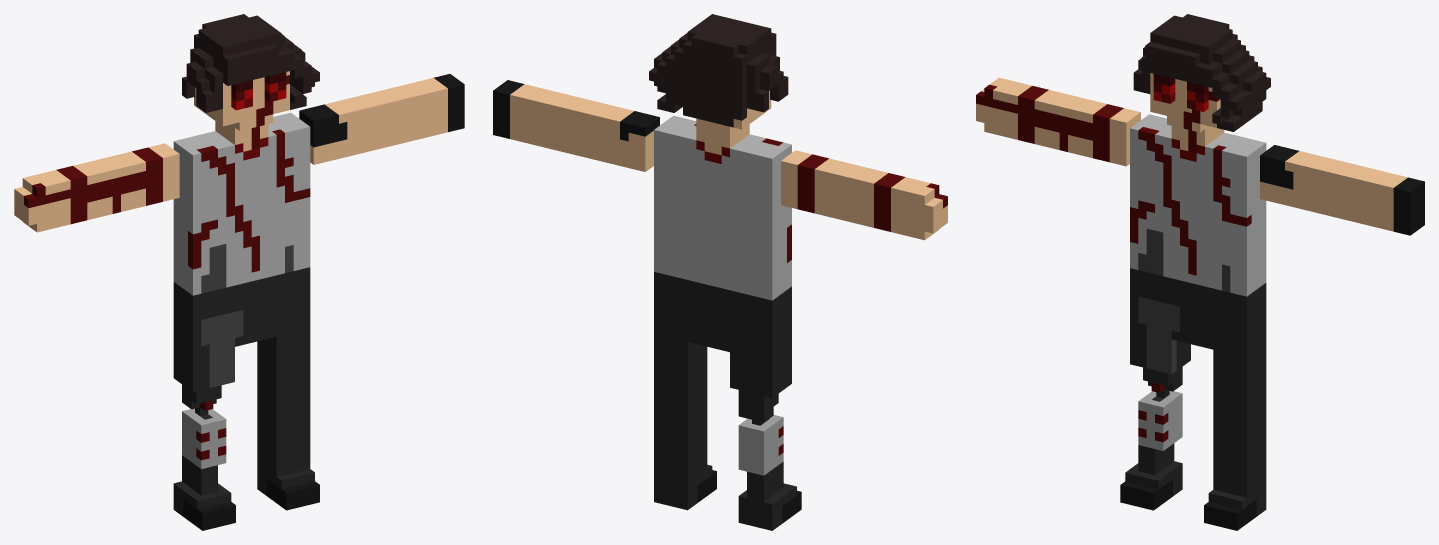
File: monster 2.obj
3 renders of one model, left to right at view 1: azimuth 30°, elevation 25°; view 2: azimuth 150°, elevation 25°; view 3: azimuth 330°, elevation 25°, orthographic.
Bounding box in the file's own units: 5.2 × 5.4 × 0.7.
Materials: 1 (1 with a texture image).
